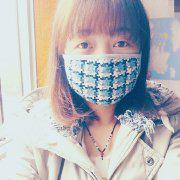OK: (63, 26, 142, 105)
